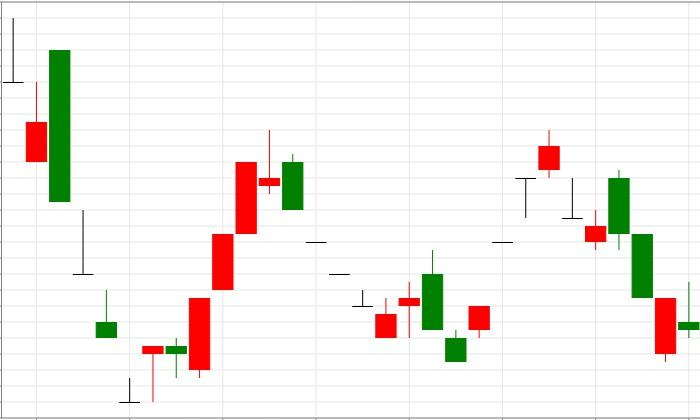bullish_engulfing_rise: (48, 49, 212, 404)
three_white_soldiers_rise: (48, 49, 257, 404)
